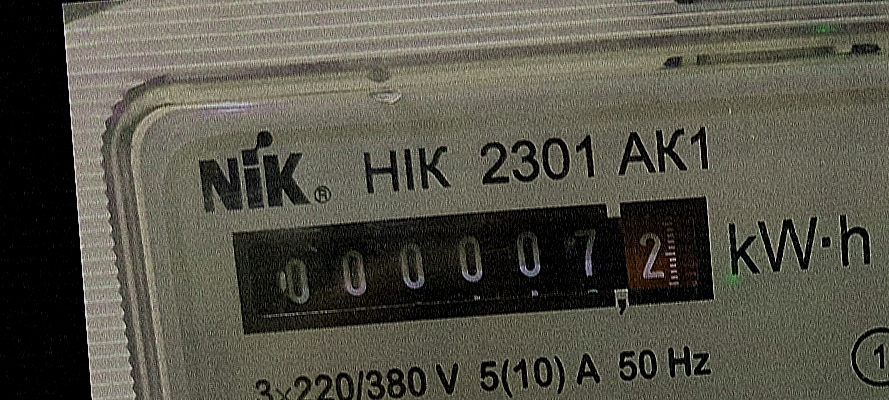0: (334, 244, 373, 298), (510, 226, 546, 281), (452, 230, 487, 285), (395, 237, 429, 292), (279, 253, 314, 306)
2: (634, 228, 668, 281)
7: (569, 223, 602, 280)
screen: (213, 175, 735, 355)
